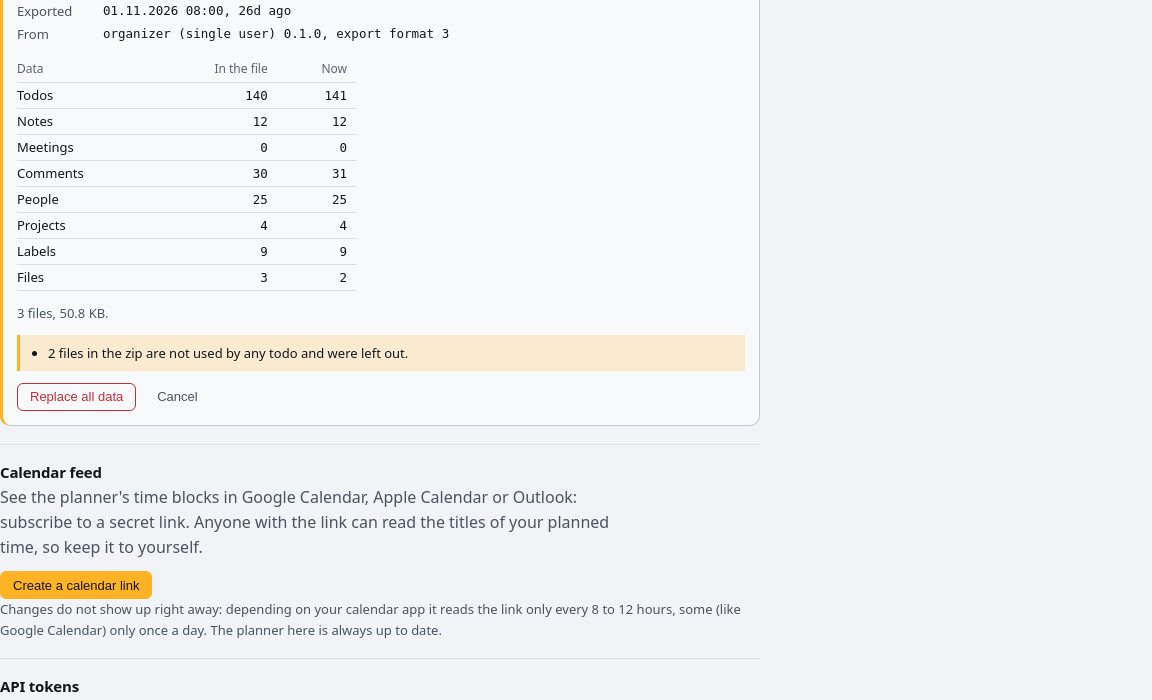
settings: restore › replaces the data only after the typed confirm, then resets the cache and goes to Next up
This screenshot has width=1152, height=700.
Earlier steps of the test are not shown.
(page scrolled)
Click the button "Replace all data".
click(77, 397)  # box [17,383,136,411]
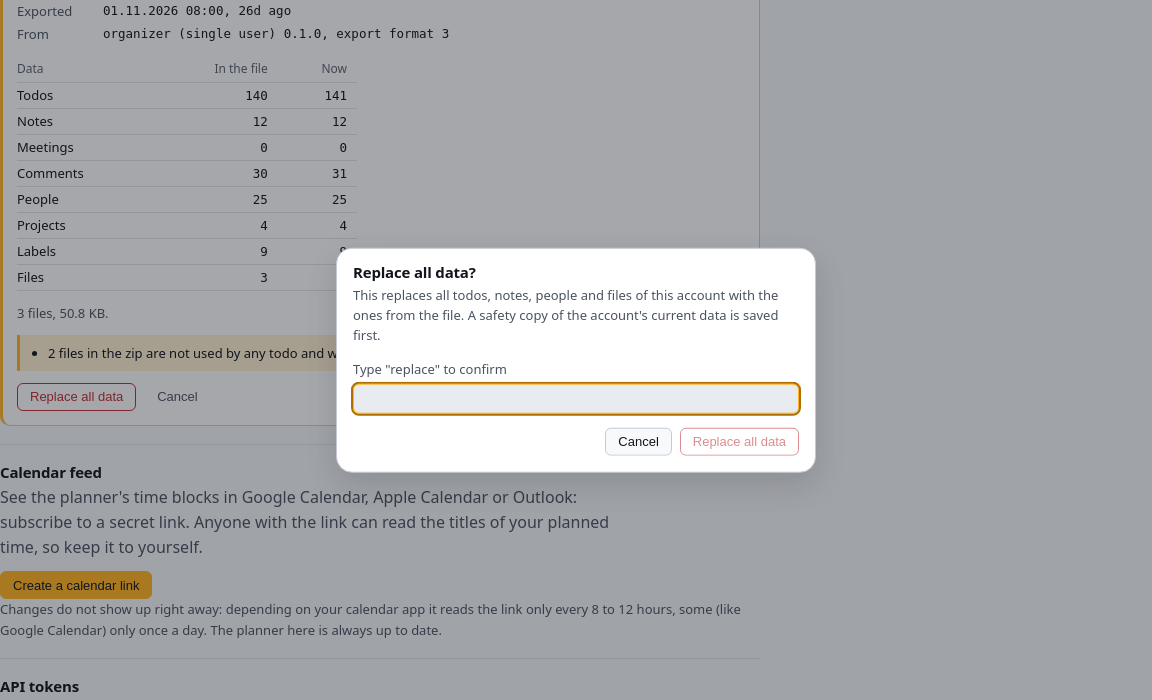
Result: the text "of this account with the ones from the file. A safety copy of the account's current data is saved first" is shown at [353,286,778,344]
Type "replac" into the field labelled "Type \"replace\" to confirm".
click(576, 398); type("replac")  # box [353,383,799,413]
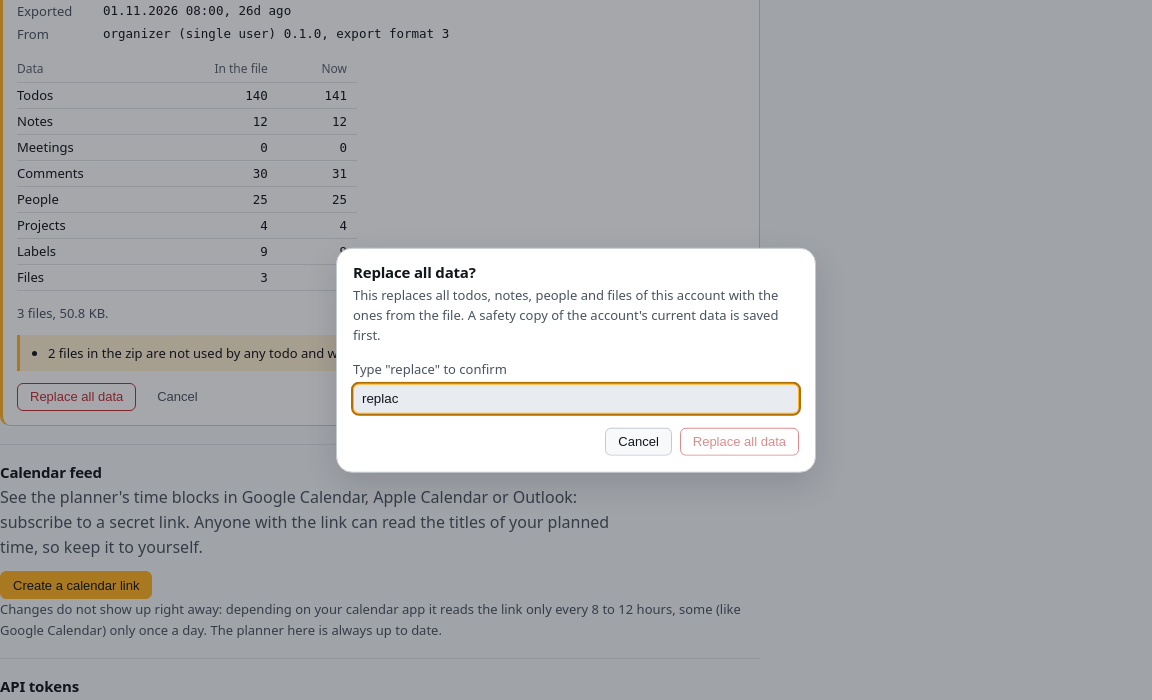
Result: the button "Replace all data" is disabled at [680,427,799,455]
Type "e" into the field labelled "Type \"replace\" to confirm".
click(576, 398); type("e")  # box [353,383,799,413]
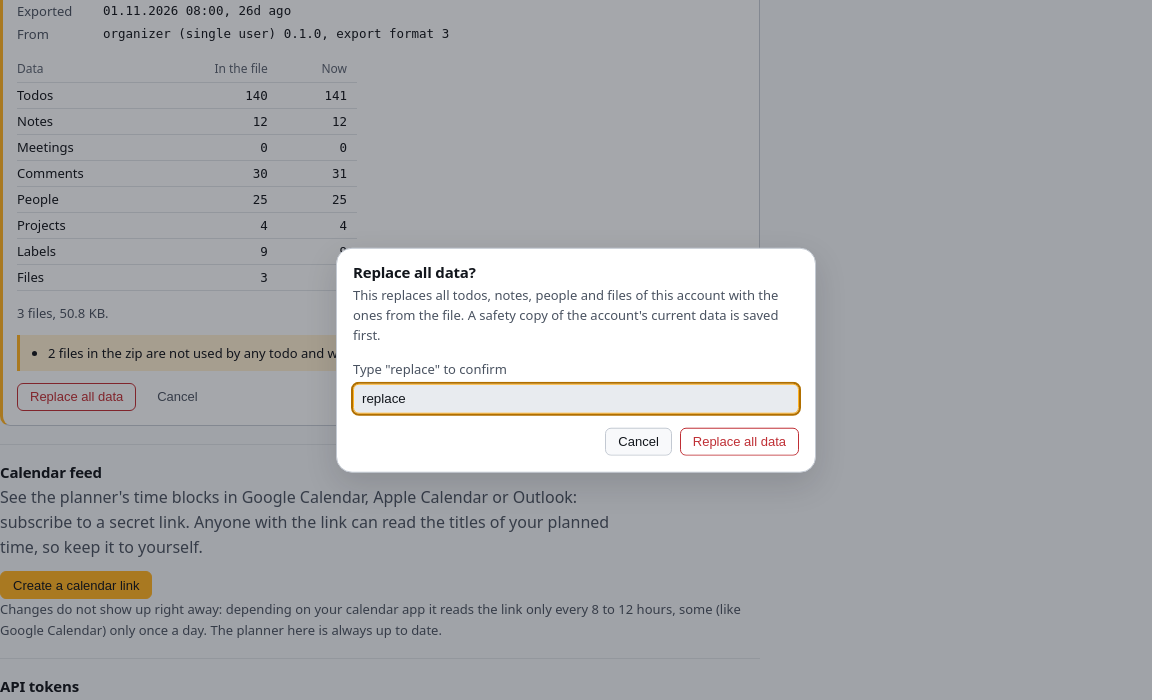
Result: the button "Replace all data" is enabled
Click the button "Replace all data".
click(739, 441)  # box [680,427,799,455]
(page scrolled)
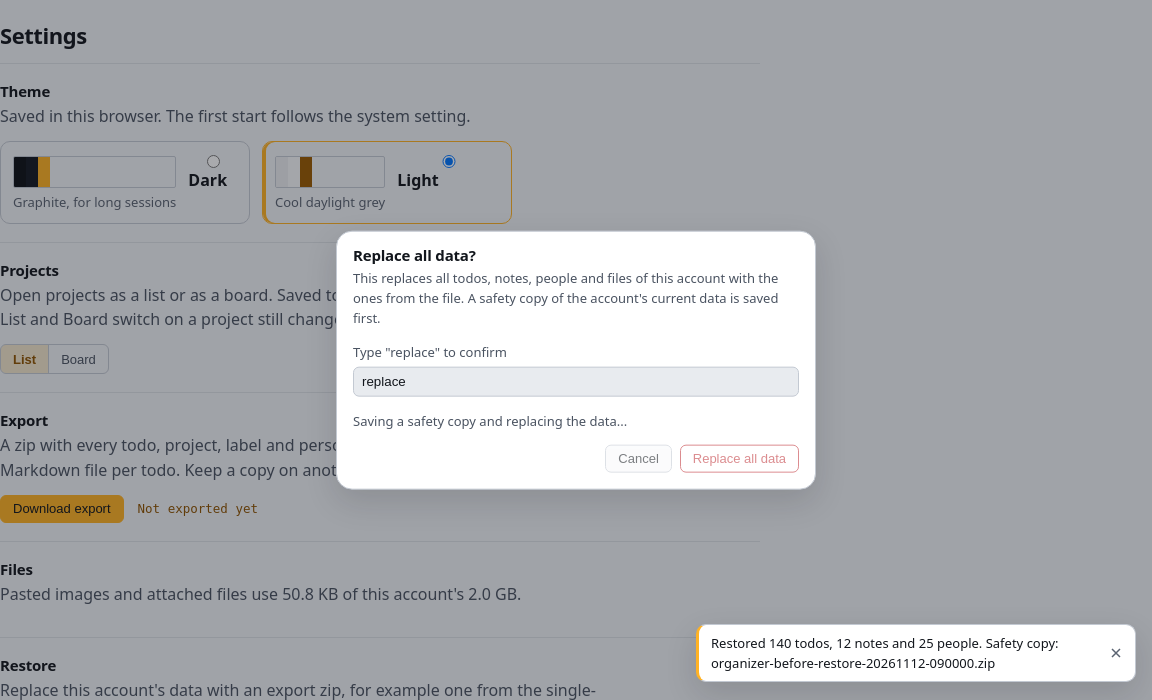
Result: the text "Restored 140 todos, 12 notes and 25 people. Safety copy: organizer-before-restore" is shown at [711,634,1059,672]
